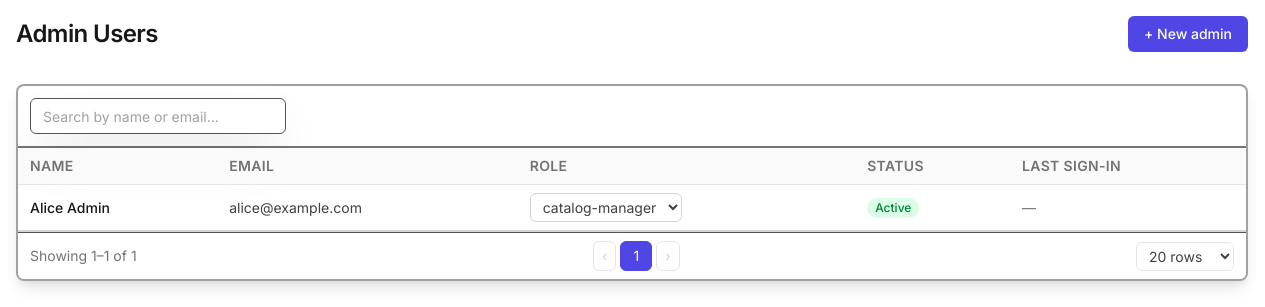
Test: AdminUsersPage › deactivates an admin via the status toggle
The image size is (1265, 307).
Click the button "Active".
click(893, 208)  # box [867, 198, 919, 218]
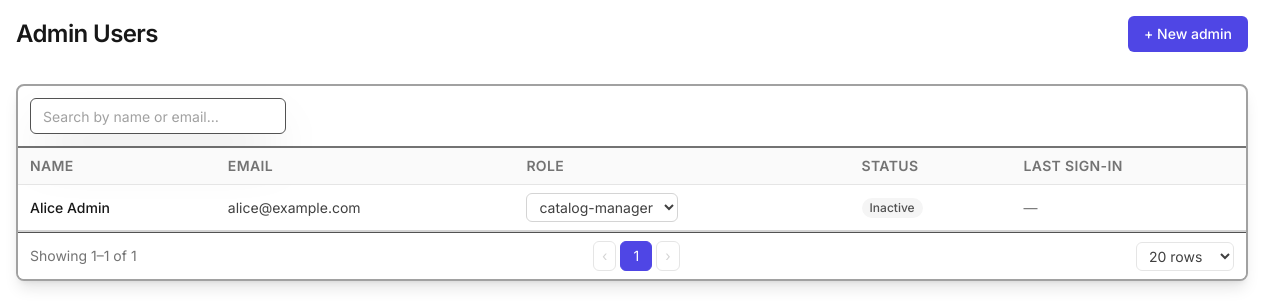
Check: the button "Inactive" is shown, box [862, 198, 923, 218]
